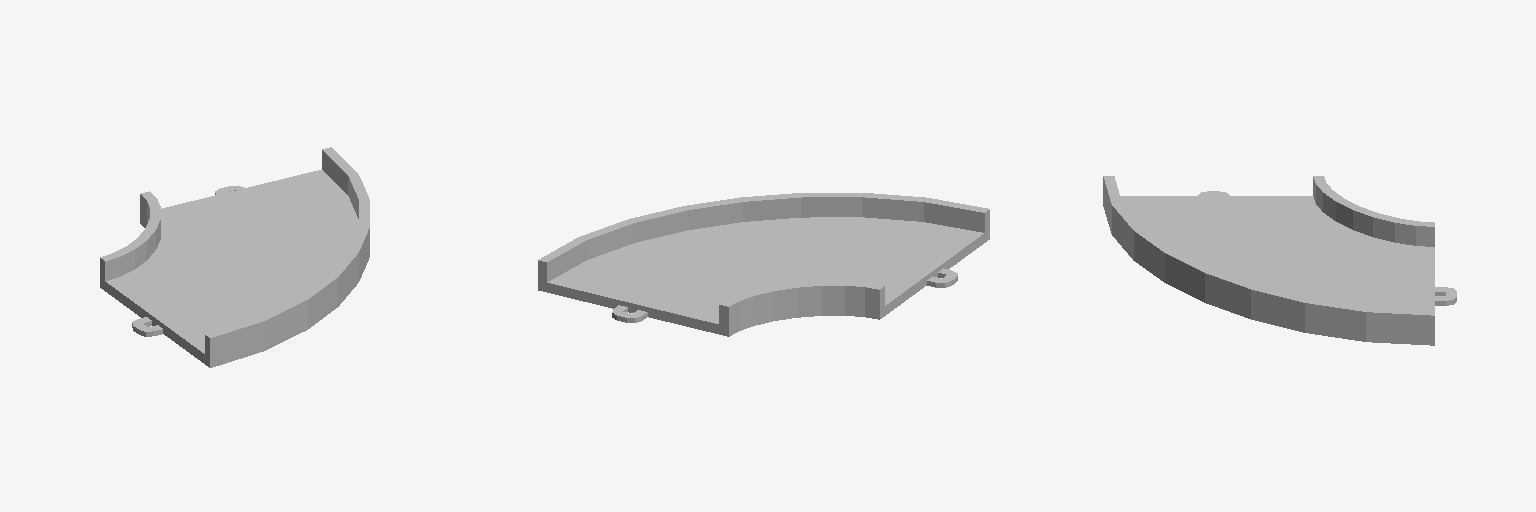
Rendered from track-wide-corner-small.obj.
3 views of the same model, side by side, from view 1: azimuth 30°, elevation 25°; view 2: azimuth 150°, elevation 25°; view 3: azimuth 270°, elevation 25° (orthographic).
Parts seen in each view (by area): view 1: track-wide-corner-small; view 2: track-wide-corner-small; view 3: track-wide-corner-small.
Boxes of the visible parts, x1=… form: track-wide-corner-small: x1=100, y1=147, x2=369, y2=367; track-wide-corner-small: x1=538, y1=193, x2=989, y2=336; track-wide-corner-small: x1=1103, y1=176, x2=1456, y2=345.
Size of the model in its own units: 3.2 by 0.3 by 3.2.